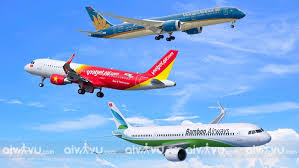maybay_dansu: (102, 102, 271, 164), (24, 49, 179, 106), (84, 4, 245, 36)
